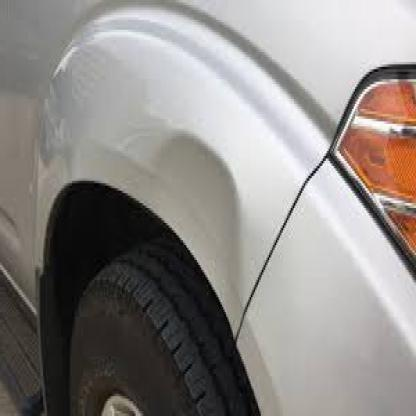dent: (155, 126, 252, 236)
